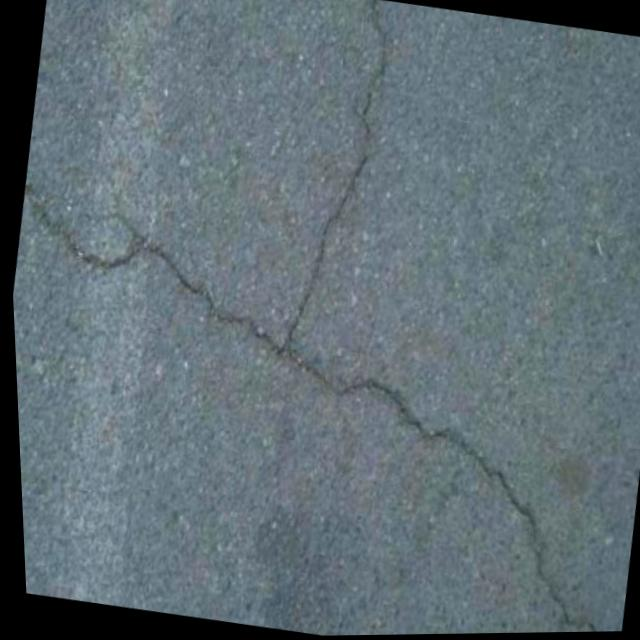Crack: (240, 342, 640, 637), (6, 170, 301, 394), (268, 0, 407, 357)
